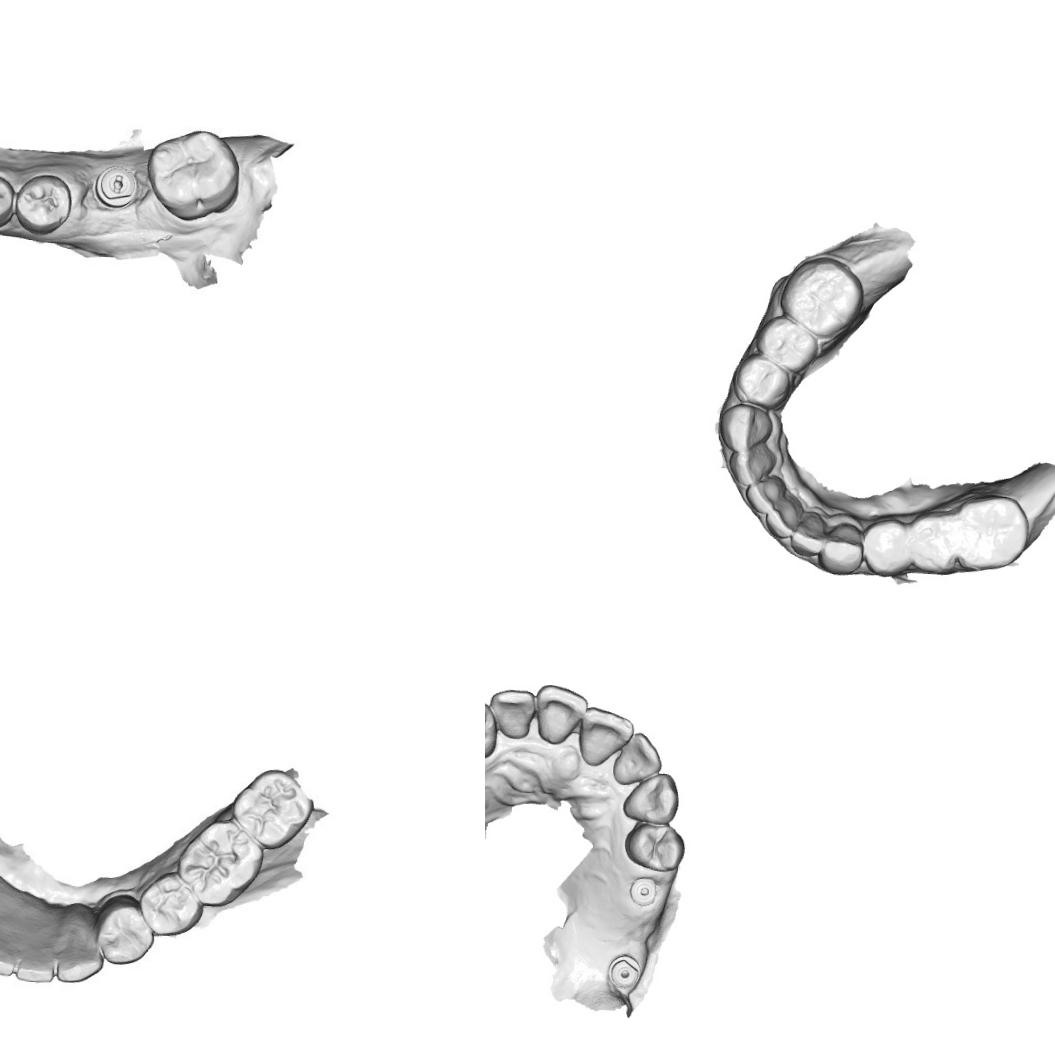canine: (54, 910, 108, 987), (619, 769, 681, 826), (714, 400, 776, 454), (817, 520, 864, 576), (485, 698, 498, 760)
implant: (604, 950, 644, 990), (626, 874, 660, 908)
implant_minus: (91, 162, 141, 212)
incisor: (575, 704, 637, 769), (531, 685, 589, 747), (610, 728, 664, 788), (12, 921, 59, 986), (488, 686, 536, 741), (726, 440, 778, 488), (744, 472, 788, 516), (789, 508, 826, 558), (764, 493, 803, 540), (0, 912, 21, 977)
molar: (151, 127, 239, 222), (776, 254, 866, 340), (234, 766, 308, 852), (952, 491, 1030, 572), (181, 816, 256, 896)
premolar: (92, 890, 158, 968), (140, 872, 204, 941), (753, 312, 821, 373), (728, 352, 793, 408), (621, 821, 686, 874), (859, 516, 914, 578), (18, 173, 74, 232), (908, 512, 958, 574), (0, 172, 12, 225)
